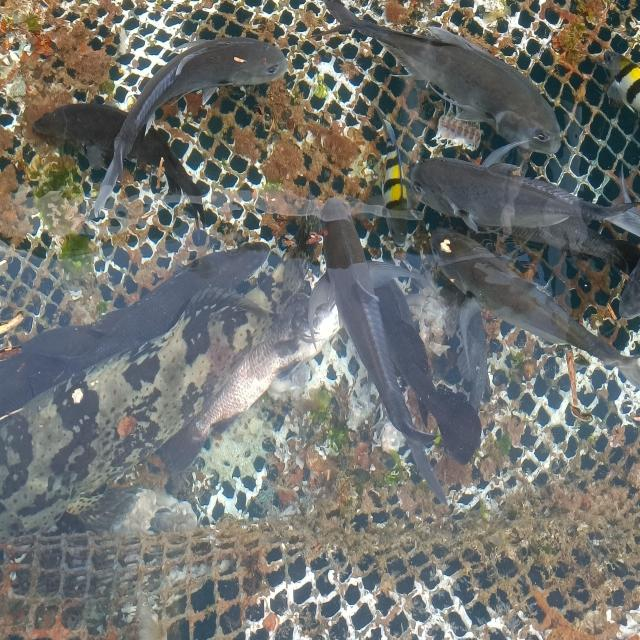ikan: (336, 7, 570, 160), (98, 23, 294, 200), (300, 186, 418, 474), (399, 147, 615, 240)
